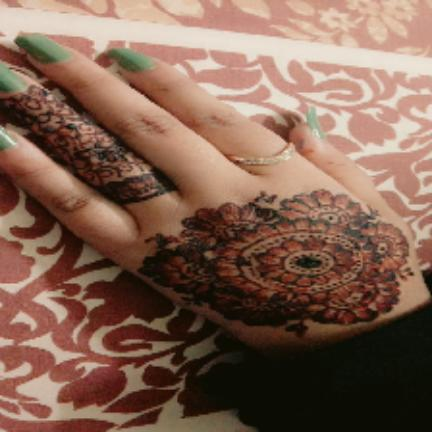Nail: (14, 35, 73, 63), (108, 48, 155, 72), (0, 62, 25, 93), (306, 106, 326, 140), (0, 127, 15, 150)
